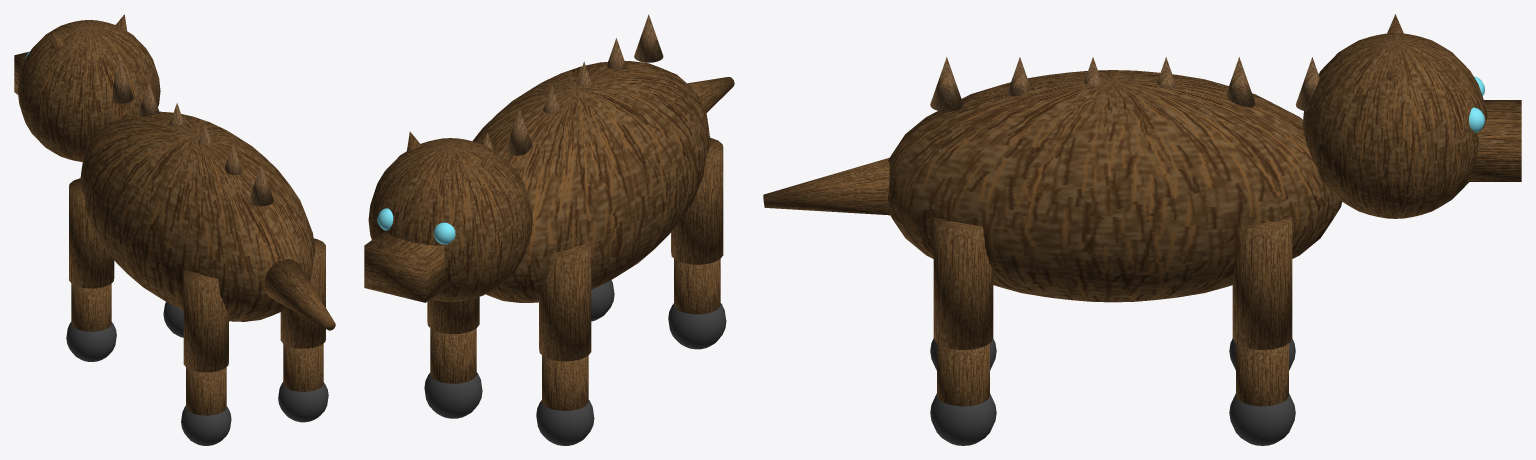
Rendered from peluda.glb.
3 renders of one model, left to right at view 1: azimuth 30°, elevation 25°; view 2: azimuth 150°, elevation 25°; view 3: azimuth 270°, elevation 25°, orthographic. The views are drawn at different scales.
Parts seen in each view (by area): view 1: Body, Head, LegUpper, LegUpper.001, Tail, LegUpper.002, LegLower, LegLower.001, LegLower.002, Paw.001, Paw.002, Paw (+5 smaller); view 2: Body, Head, LegUpper.001, Snout, LegUpper, LegLower, LegLower.001, LegLower.003, Paw.003, Paw, Paw.001, LegUpper.003 (+6 smaller); view 3: Body, Head, LegUpper.002, LegUpper.003, Tail, Snout, LegLower.002, LegLower.003, Paw.002, Paw.003, Spike, Spike.004.
Part boxes in pixels (box(x1,y1,x2,y2)): Body: box(80, 111, 314, 321); Head: box(18, 20, 160, 161); LegUpper: box(183, 269, 228, 372); LegUpper.001: box(69, 178, 114, 288); Tail: box(265, 259, 335, 330); LegUpper.002: box(280, 238, 325, 348); LegLower: box(186, 367, 226, 415); LegLower.001: box(71, 283, 111, 331); LegLower.002: box(283, 343, 323, 391); Paw.001: box(66, 322, 116, 361); Paw.002: box(278, 382, 328, 422); Paw: box(181, 406, 231, 445); Body: box(472, 61, 710, 302); Head: box(368, 138, 532, 302); LegUpper.001: box(539, 242, 591, 361); Snout: box(364, 231, 449, 302); LegUpper: box(671, 137, 723, 264); LegLower: box(674, 259, 720, 314); LegLower.001: box(542, 355, 588, 410); LegLower.003: box(430, 328, 476, 383); Paw.003: box(424, 372, 482, 418); Paw: box(668, 303, 726, 349); Paw.001: box(536, 400, 594, 445); LegUpper.003: box(427, 297, 479, 333); Body: box(888, 70, 1341, 302); Head: box(1302, 33, 1487, 218); LegUpper.002: box(933, 217, 993, 350); LegUpper.003: box(1232, 217, 1292, 350); Tail: box(763, 157, 889, 215); Snout: box(1467, 100, 1521, 181); LegLower.002: box(937, 343, 989, 406); LegLower.003: box(1236, 343, 1288, 406); Paw.002: box(930, 393, 996, 445); Paw.003: box(1229, 393, 1295, 445); Spike: box(930, 57, 963, 111); Spike.004: box(1226, 57, 1255, 107).
Bounding box in the file's own units: 0.5535 × 0.986 × 1.8.
4 materials, 2 textured.
